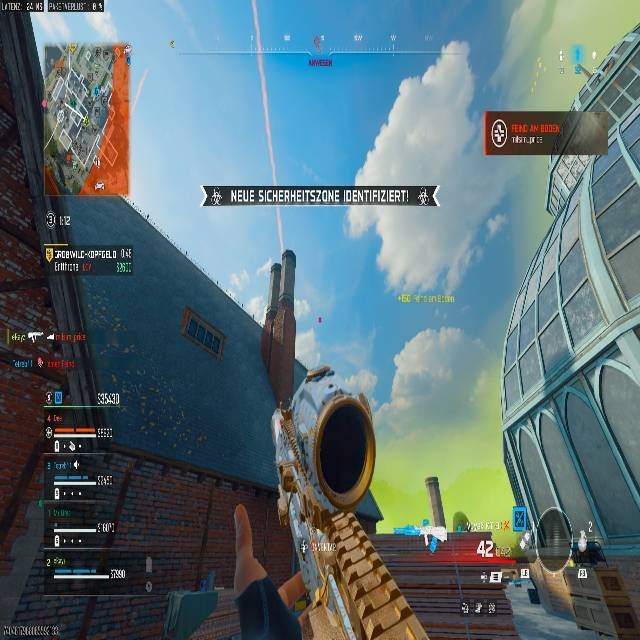player: (576, 539, 607, 567)
